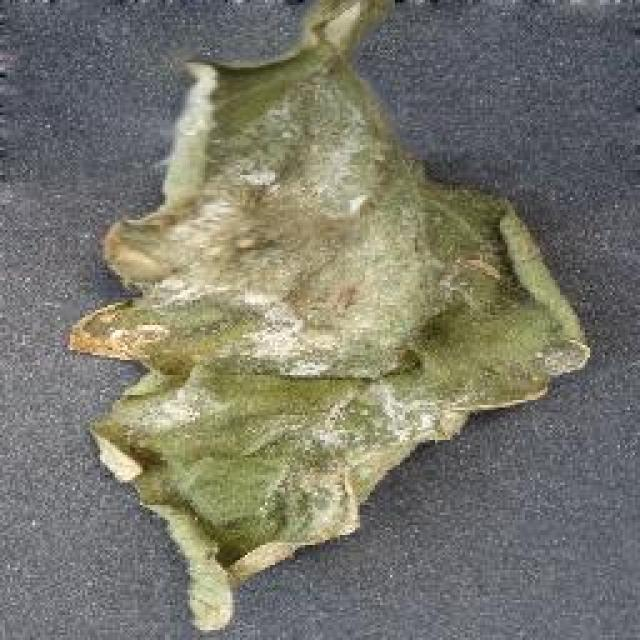Tomato Late Blight: (91, 94, 546, 574)
